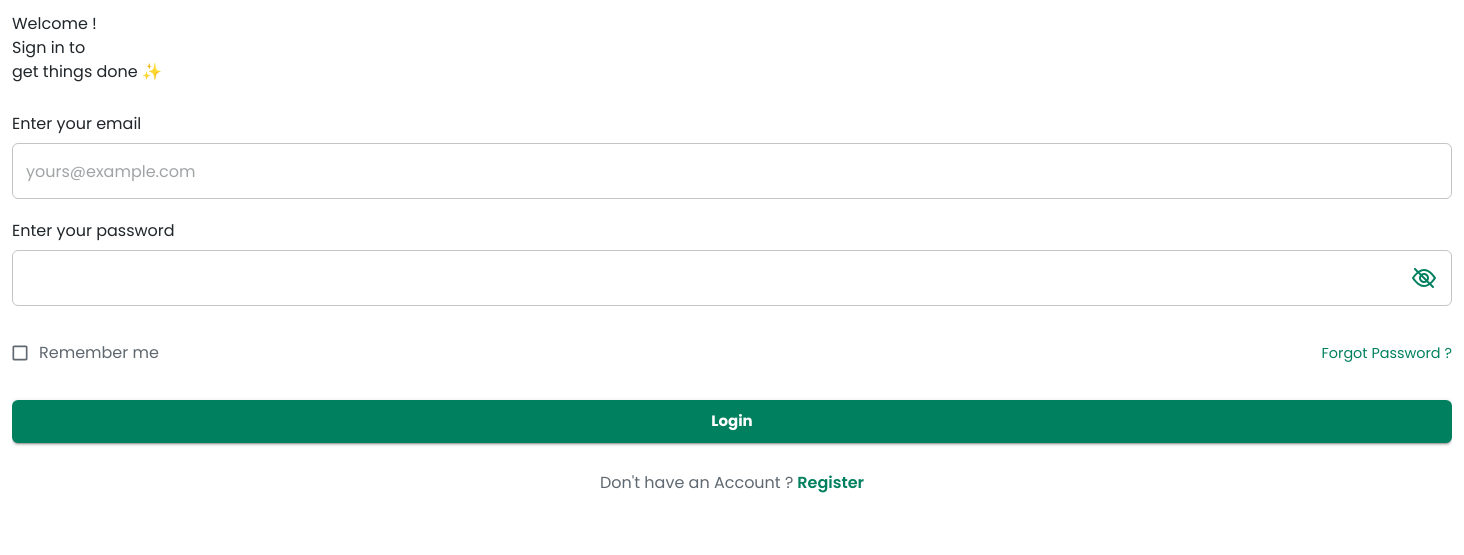
Test: LoginForm › shows validation errors for empty login submissions
Click the button "Login".
click(732, 422)  # box [12,400,1452,443]
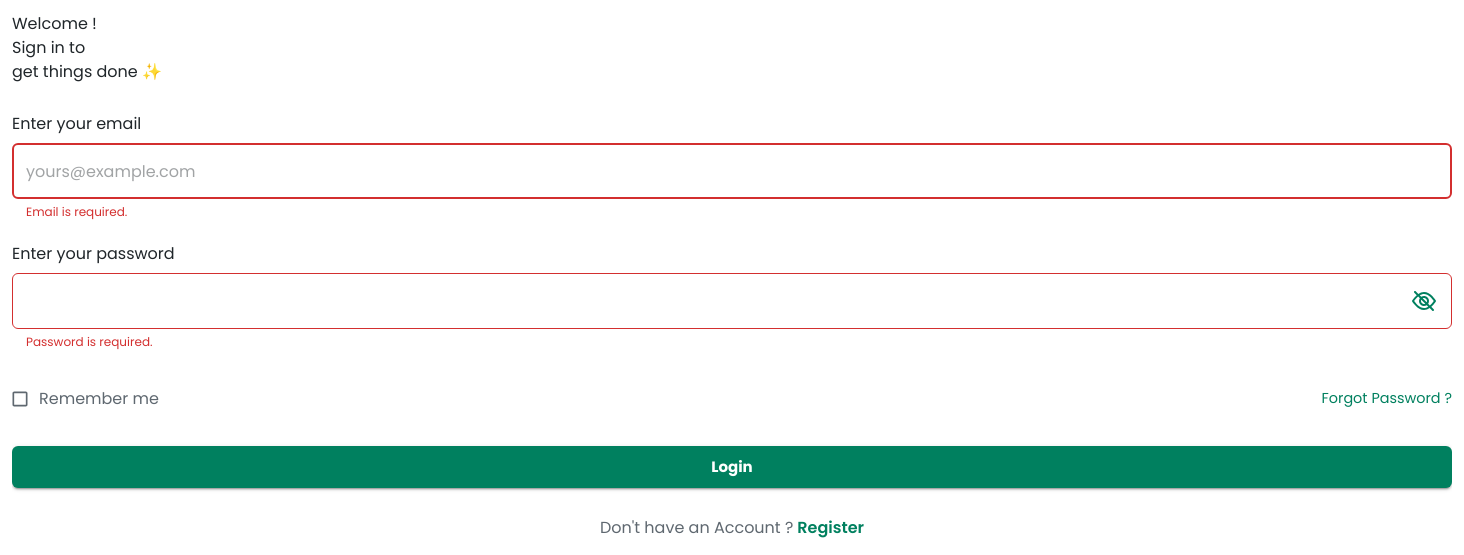
Expected: the text "Email is required." is shown, [26,203,127,220]
Expected: the text "Password is required." is shown, [26,333,152,350]
